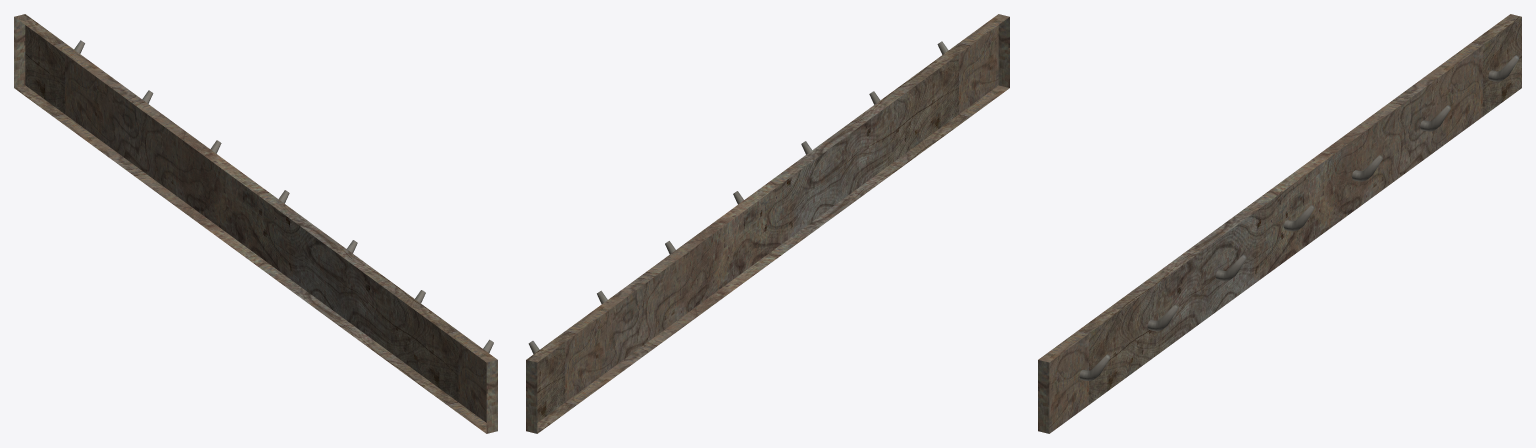
The model's file is _WallHooks.FBX.
The picture shows the model from 3 angles, left to right: view 1: azimuth 30°, elevation 25°; view 2: azimuth 150°, elevation 25°; view 3: azimuth 330°, elevation 25°; orthographic projection.
Visible parts, largest first — view 1: _WallHooks; view 2: _WallHooks; view 3: _WallHooks.
Boxes of the visible parts, x1=… form: _WallHooks: x1=14, y1=14, x2=497, y2=433; _WallHooks: x1=526, y1=14, x2=1009, y2=433; _WallHooks: x1=1038, y1=14, x2=1521, y2=433.
Size of the model in its own units: 8.64 by 15 by 180.
Materials: 2 (2 with a texture image).
